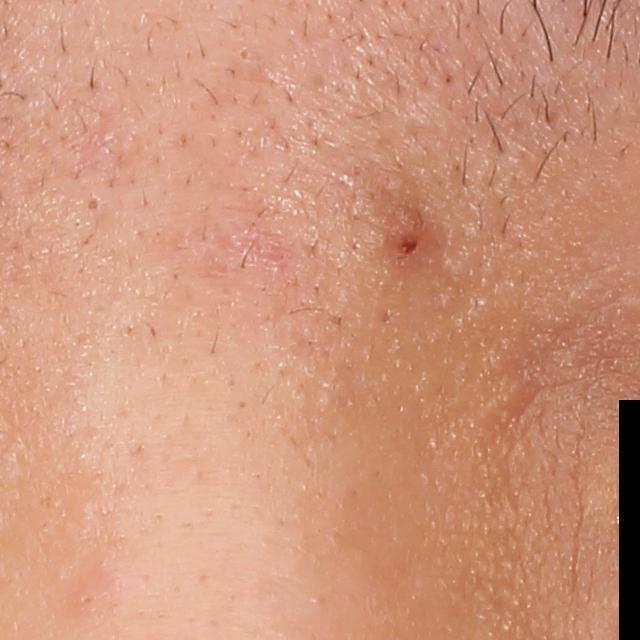comedo: (78, 193, 109, 221), (236, 45, 254, 64)
papule: (384, 213, 439, 264)
